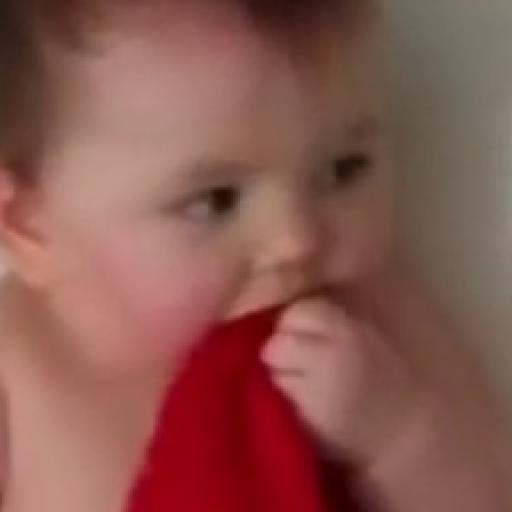Autism: (0, 0, 464, 478)
